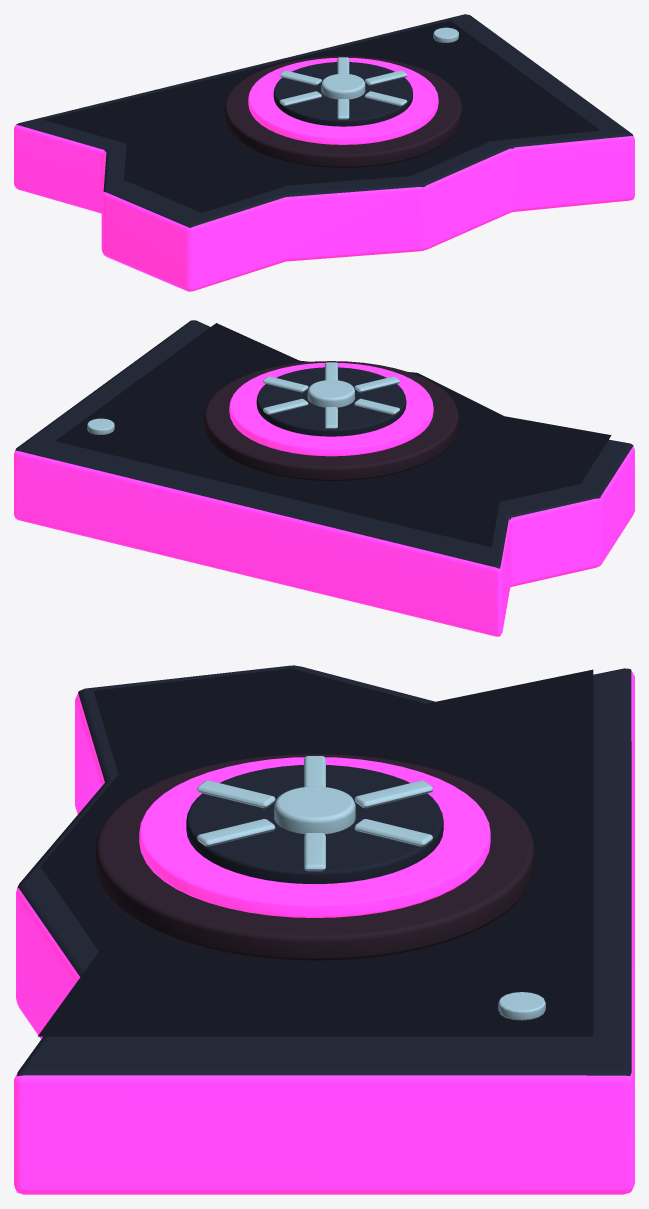
The model's file is tape_piece_2.glb.
3 renders of one model, top to bottom at view 1: azimuth 30°, elevation 25°; view 2: azimuth 150°, elevation 25°; view 3: azimuth 270°, elevation 25°, orthographic. The views are drawn at different scales.
Visible parts, largest first — view 1: 02_Pink_UpperRight | broken shell, 02_Pink_UpperRight | inset face, Right | tape spool, Right | bright reel ring, Right | black reel core, Right | chrome spindle; view 2: 02_Pink_UpperRight | broken shell, 02_Pink_UpperRight | inset face, Right | tape spool, Right | bright reel ring, Right | black reel core, Right | chrome spindle; view 3: 02_Pink_UpperRight | broken shell, 02_Pink_UpperRight | inset face, Right | tape spool, Right | bright reel ring, Right | black reel core, Right | chrome spindle, Corner screw.001, Right | chrome spoke 2, Right | chrome spoke 4, Right | chrome spoke 5, Right | chrome spoke 1, Right | chrome spoke 0.
Boxes of the visible parts, left/top/right/bottom form: 02_Pink_UpperRight | broken shell: left=14, top=14, right=634, bottom=291; 02_Pink_UpperRight | inset face: left=43, top=20, right=600, bottom=212; Right | tape spool: left=224, top=56, right=462, bottom=167; Right | bright reel ring: left=248, top=58, right=438, bottom=144; Right | black reel core: left=273, top=62, right=412, bottom=126; Right | chrome spindle: left=321, top=73, right=365, bottom=99; 02_Pink_UpperRight | broken shell: left=14, top=320, right=634, bottom=636; 02_Pink_UpperRight | inset face: left=55, top=323, right=611, bottom=547; Right | tape spool: left=204, top=361, right=458, bottom=480; Right | bright reel ring: left=229, top=363, right=433, bottom=456; Right | black reel core: left=256, top=367, right=406, bottom=436; Right | chrome spindle: left=307, top=380, right=354, bottom=407; 02_Pink_UpperRight | broken shell: left=14, top=665, right=634, bottom=1194; 02_Pink_UpperRight | inset face: left=38, top=668, right=593, bottom=1036; Right | tape spool: left=95, top=754, right=534, bottom=960; Right | bright reel ring: left=139, top=757, right=490, bottom=917; Right | black reel core: left=186, top=765, right=443, bottom=883; Right | chrome spindle: left=274, top=786, right=355, bottom=834; Corner screw.001: left=498, top=992, right=545, bottom=1020; Right | chrome spoke 2: left=354, top=780, right=432, bottom=808; Right | chrome spoke 4: left=197, top=780, right=275, bottom=808; Right | chrome spoke 5: left=197, top=819, right=275, bottom=846; Right | chrome spoke 1: left=354, top=819, right=432, bottom=846; Right | chrome spoke 0: left=304, top=833, right=325, bottom=871.
Size of the model in its own units: 1.56 by 0.363 by 0.9897.
